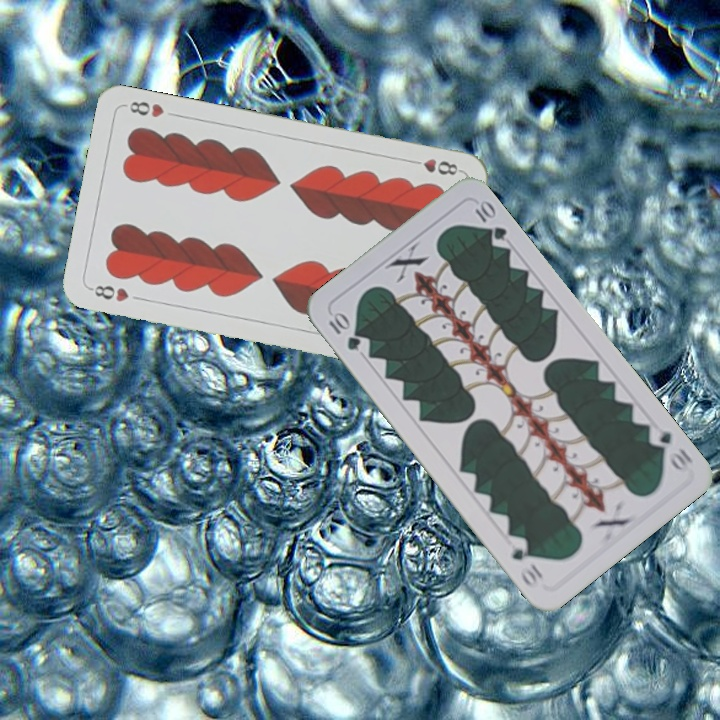G10: (644, 426, 696, 474), (324, 308, 364, 353)
H8: (406, 154, 464, 178), (86, 281, 132, 305)
